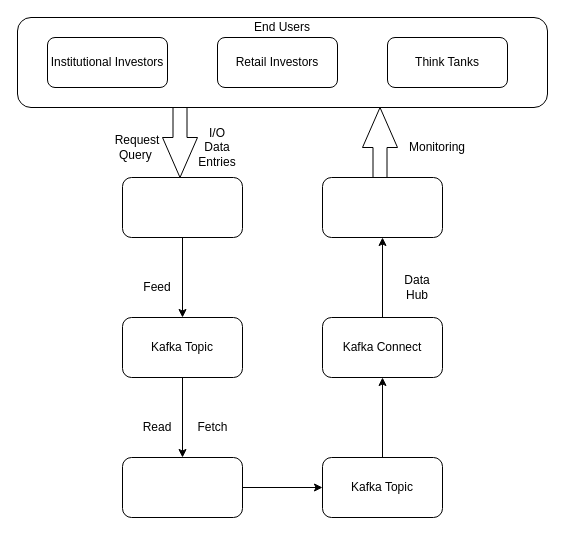
This 565x541 diagram has some shape labels left out. The centre of each missing label's shape, as x and y in pixels:
Casandra DB: point 182,207
ELK / Kibana / Grafana: point 382,207
Flink: point 182,487
